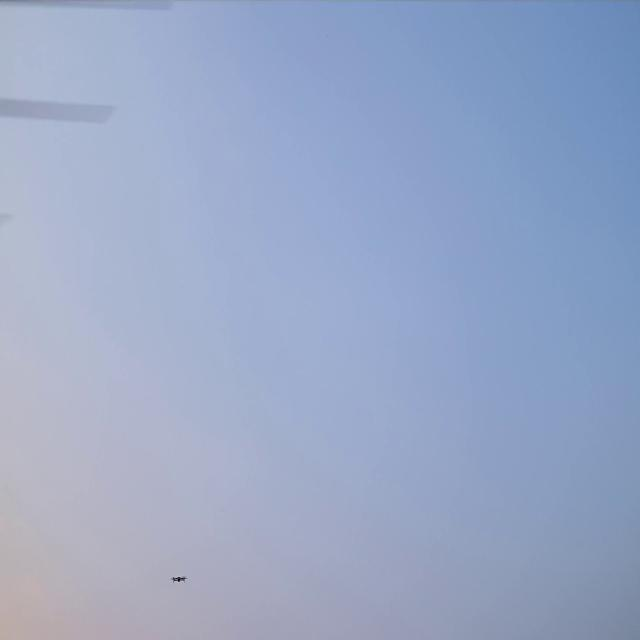UAV: (170, 575, 188, 584)
